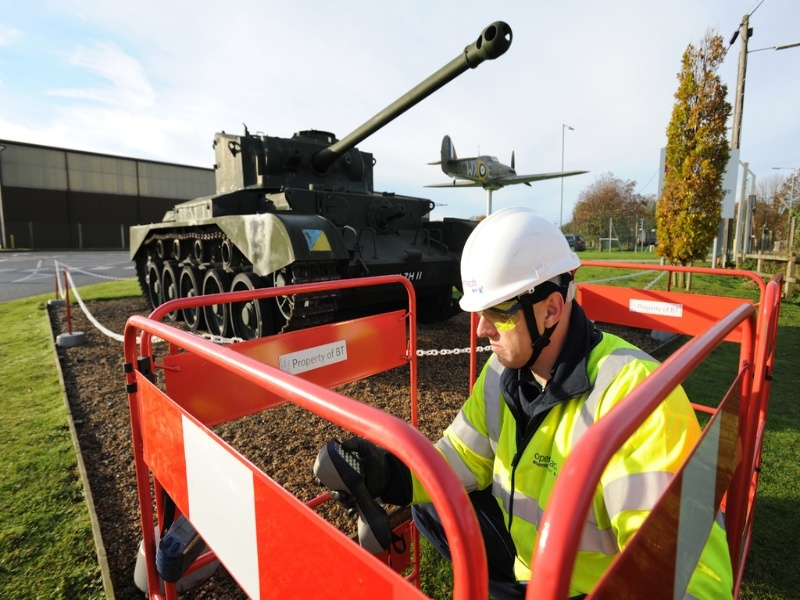baret: (456, 206, 586, 314)
